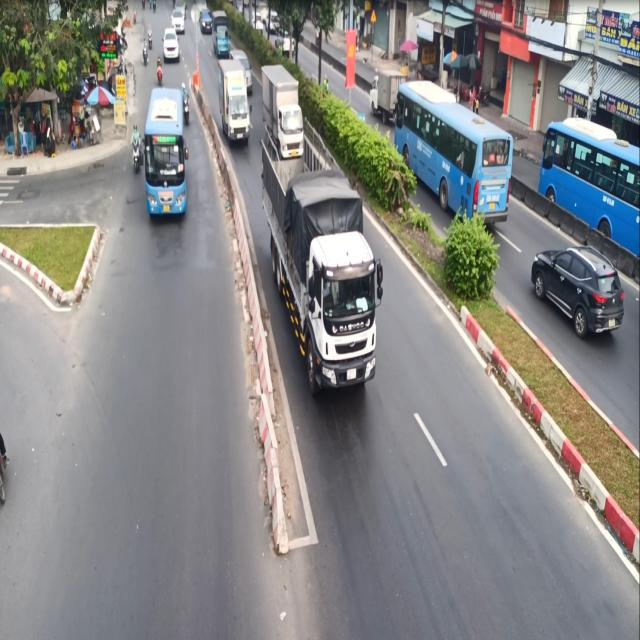bus: (143, 81, 189, 226)
motor: (129, 123, 146, 177)
truck: (264, 134, 379, 404), (261, 66, 306, 164), (215, 59, 252, 148)
